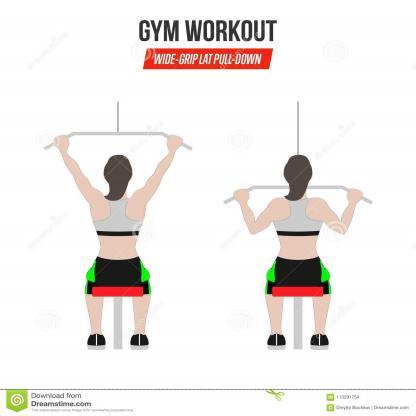Lat Pull Down: (26, 83, 199, 358), (217, 92, 380, 358)
